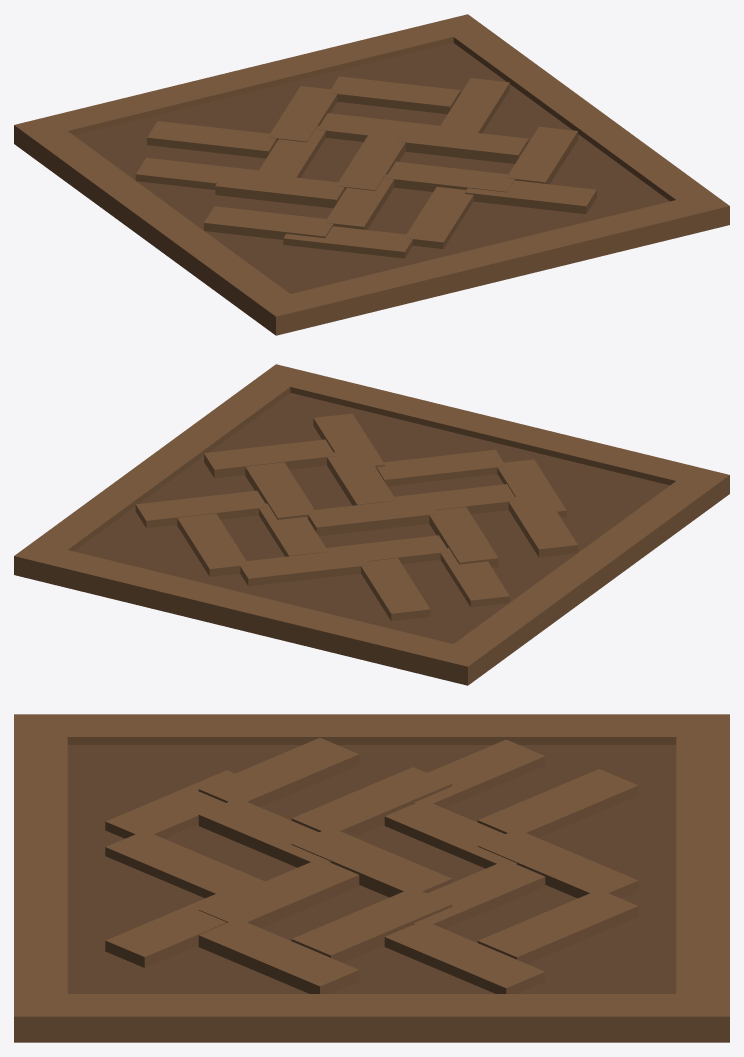
Rendered from SM_Wall_TavernFrame_02_Floor.glb.
The picture shows the model from 3 angles, top to bottom: view 1: azimuth 30°, elevation 25°; view 2: azimuth 150°, elevation 25°; view 3: azimuth 270°, elevation 25°; orthographic projection. The views are drawn at different scales.
Parts seen in each view (by area): view 1: SM_Wall_TavernFrame_02_Floor_Base, SM_Wall_TavernFrame_02_Floor_BorderS, SM_Wall_TavernFrame_02_Floor_BorderW, SM_Wall_TavernFrame_02_Floor_BorderN, SM_Wall_TavernFrame_02_Floor_BorderE, SM_Wall_TavernFrame_02_Floor_Hb9, SM_Wall_TavernFrame_02_Floor_Hb7, SM_Wall_TavernFrame_02_Floor_Hb16, SM_Wall_TavernFrame_02_Floor_Hb14, SM_Wall_TavernFrame_02_Floor_Hb3, SM_Wall_TavernFrame_02_Floor_Hb2, SM_Wall_TavernFrame_02_Floor_Hb5 (+10 smaller); view 2: SM_Wall_TavernFrame_02_Floor_Base, SM_Wall_TavernFrame_02_Floor_BorderN, SM_Wall_TavernFrame_02_Floor_BorderW, SM_Wall_TavernFrame_02_Floor_BorderS, SM_Wall_TavernFrame_02_Floor_BorderE, SM_Wall_TavernFrame_02_Floor_Hb8, SM_Wall_TavernFrame_02_Floor_Hb15, SM_Wall_TavernFrame_02_Floor_Hb6, SM_Wall_TavernFrame_02_Floor_Hb1, SM_Wall_TavernFrame_02_Floor_Hb13, SM_Wall_TavernFrame_02_Floor_Hb3, SM_Wall_TavernFrame_02_Floor_Hb16 (+10 smaller); view 3: SM_Wall_TavernFrame_02_Floor_Base, SM_Wall_TavernFrame_02_Floor_BorderE, SM_Wall_TavernFrame_02_Floor_BorderW, SM_Wall_TavernFrame_02_Floor_BorderN, SM_Wall_TavernFrame_02_Floor_BorderS, SM_Wall_TavernFrame_02_Floor_Hb6, SM_Wall_TavernFrame_02_Floor_Hb13, SM_Wall_TavernFrame_02_Floor_Hb16, SM_Wall_TavernFrame_02_Floor_Hb3, SM_Wall_TavernFrame_02_Floor_Hb5, SM_Wall_TavernFrame_02_Floor_Hb14, SM_Wall_TavernFrame_02_Floor_Hb9 (+10 smaller).
Boxes of the visible parts, x1,y1,x2,y2 form: SM_Wall_TavernFrame_02_Floor_Base: (74,43,669,293); SM_Wall_TavernFrame_02_Floor_BorderS: (256,191,729,335); SM_Wall_TavernFrame_02_Floor_BorderW: (33,131,289,320); SM_Wall_TavernFrame_02_Floor_BorderN: (14,14,486,157); SM_Wall_TavernFrame_02_Floor_BorderE: (453,28,709,201); SM_Wall_TavernFrame_02_Floor_Hb9: (397,125,528,163); SM_Wall_TavernFrame_02_Floor_Hb7: (215,169,344,208); SM_Wall_TavernFrame_02_Floor_Hb16: (329,76,460,114); SM_Wall_TavernFrame_02_Floor_Hb14: (147,121,276,158); SM_Wall_TavernFrame_02_Floor_Hb3: (204,206,333,239); SM_Wall_TavernFrame_02_Floor_Hb2: (465,180,596,214); SM_Wall_TavernFrame_02_Floor_Hb5: (385,161,514,192); SM_Wall_TavernFrame_02_Floor_Base: (74,393,669,643); SM_Wall_TavernFrame_02_Floor_BorderN: (14,541,487,685); SM_Wall_TavernFrame_02_Floor_BorderW: (454,481,710,670); SM_Wall_TavernFrame_02_Floor_BorderS: (257,364,729,507); SM_Wall_TavernFrame_02_Floor_BorderE: (34,378,290,551); SM_Wall_TavernFrame_02_Floor_Hb8: (308,497,437,536); SM_Wall_TavernFrame_02_Floor_Hb15: (240,548,369,586); SM_Wall_TavernFrame_02_Floor_Hb6: (204,439,335,478); SM_Wall_TavernFrame_02_Floor_Hb1: (376,449,505,486); SM_Wall_TavernFrame_02_Floor_Hb13: (135,490,267,528); SM_Wall_TavernFrame_02_Floor_Hb3: (508,493,577,557); SM_Wall_TavernFrame_02_Floor_Hb16: (177,513,248,576); SM_Wall_TavernFrame_02_Floor_Base: (67,745,676,993); SM_Wall_TavernFrame_02_Floor_BorderE: (67,994,676,1042); SM_Wall_TavernFrame_02_Floor_BorderW: (67,714,676,744); SM_Wall_TavernFrame_02_Floor_BorderN: (676,714,729,1042); SM_Wall_TavernFrame_02_Floor_BorderS: (14,714,67,1042); SM_Wall_TavernFrame_02_Floor_Hb6: (198,918,359,993); SM_Wall_TavernFrame_02_Floor_Hb13: (384,920,545,993); SM_Wall_TavernFrame_02_Floor_Hb16: (477,889,638,963); SM_Wall_TavernFrame_02_Floor_Hb3: (198,738,359,807); SM_Wall_TavernFrame_02_Floor_Hb5: (199,858,359,927); SM_Wall_TavernFrame_02_Floor_Hb14: (477,769,638,837); SM_Wall_TavernFrame_02_Floor_Hb9: (291,887,452,962).
Size of the model in its own units: 2 by 0.0937 by 2.
